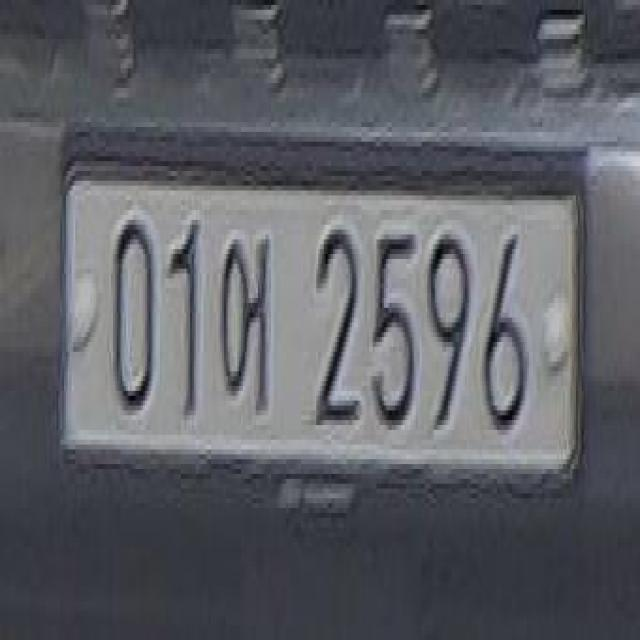illegal_plate: (66, 143, 584, 518)
